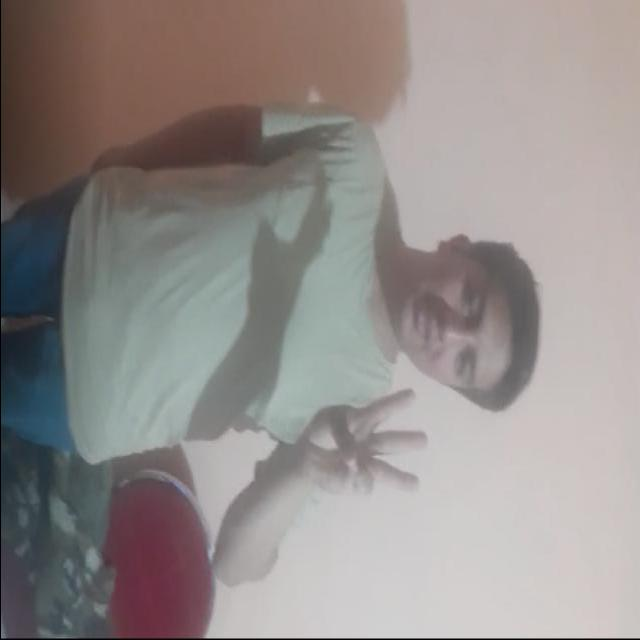W: (284, 376, 434, 508)
